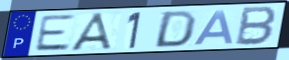1: (126, 11, 142, 50)
A: (68, 11, 116, 51), (191, 9, 236, 47)
B: (233, 5, 280, 47)
D: (151, 10, 199, 49)
E: (33, 14, 76, 53)
